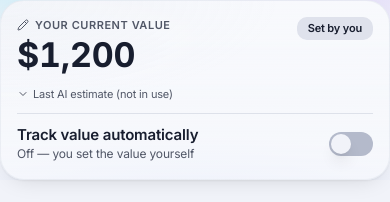
Scenario: CurrentValueCard — automatic value tracking switch › manual: typing a value writes currentValue (the canonical user-value convention)
The width and height of the screenshot is (390, 202).
Later steps or results of the test are not shown.
Click the button with test id "current-value-manual-amount" at (76, 55), box [17,34,135,76]
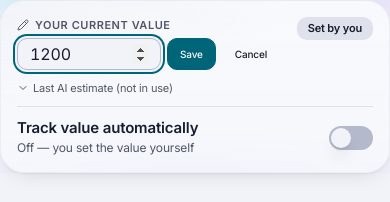
Expected: the number field with test id "current-value-manual-input" holds "1200", [17,38,161,70]
